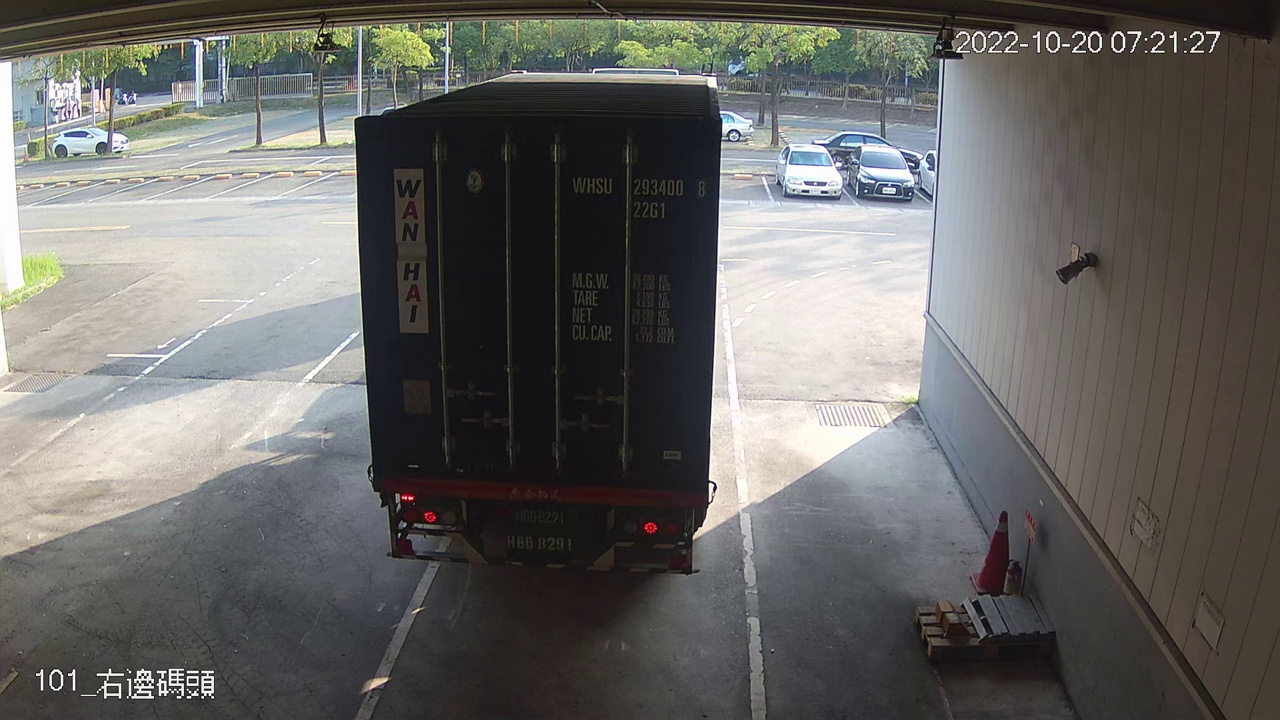container: (562, 170, 712, 224)
